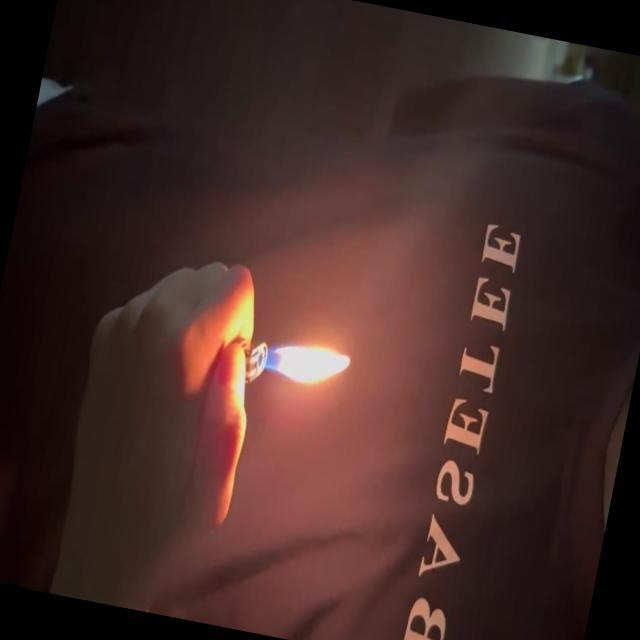Fire: (257, 332, 356, 397)
